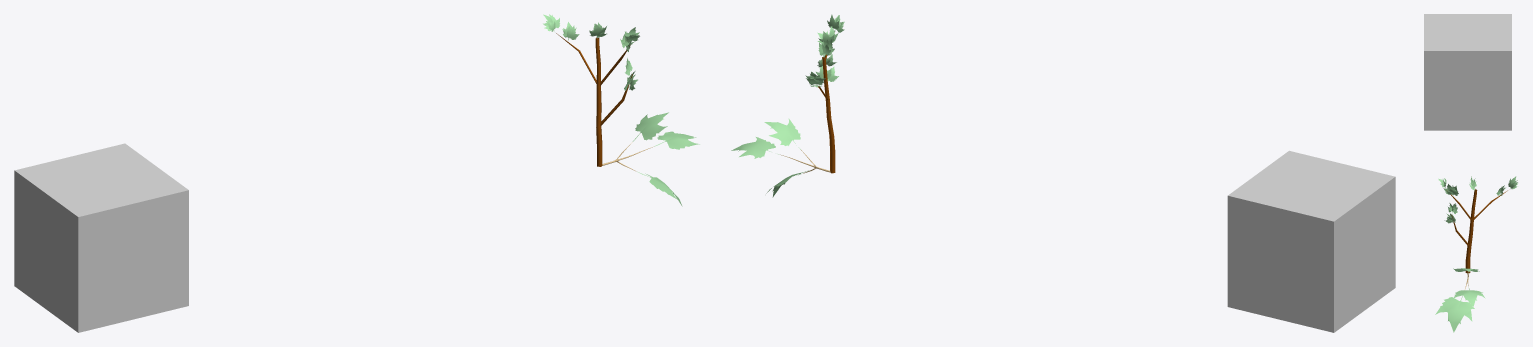
The model's file is FinalTree4.fbx.
3 views of the same model, side by side, from view 1: azimuth 30°, elevation 25°; view 2: azimuth 150°, elevation 25°; view 3: azimuth 270°, elevation 25° (orthographic). The views are drawn at different scales.
Parts seen in each view (by area): view 1: Cube, Árbol, palmate.003; view 2: Cube, Árbol, palmate.003, palmate.001; view 3: Cube, palmate.002, Árbol, palmate.001.
Part boxes in pixels (<box>): Cube: <box>14,143,188,332</box>; Árbol: <box>556,33,632,166</box>; palmate.003: <box>632,112,668,141</box>; Cube: <box>1227,150,1395,332</box>; Árbol: <box>818,54,835,173</box>; palmate.003: <box>764,118,800,149</box>; palmate.001: <box>731,137,778,158</box>; Cube: <box>1424,14,1511,130</box>; palmate.002: <box>1435,296,1474,332</box>; Árbol: <box>1446,189,1507,273</box>; palmate.001: <box>1453,288,1485,306</box>.
Bounding box in the file's own units: 1185 × 344 × 216.
